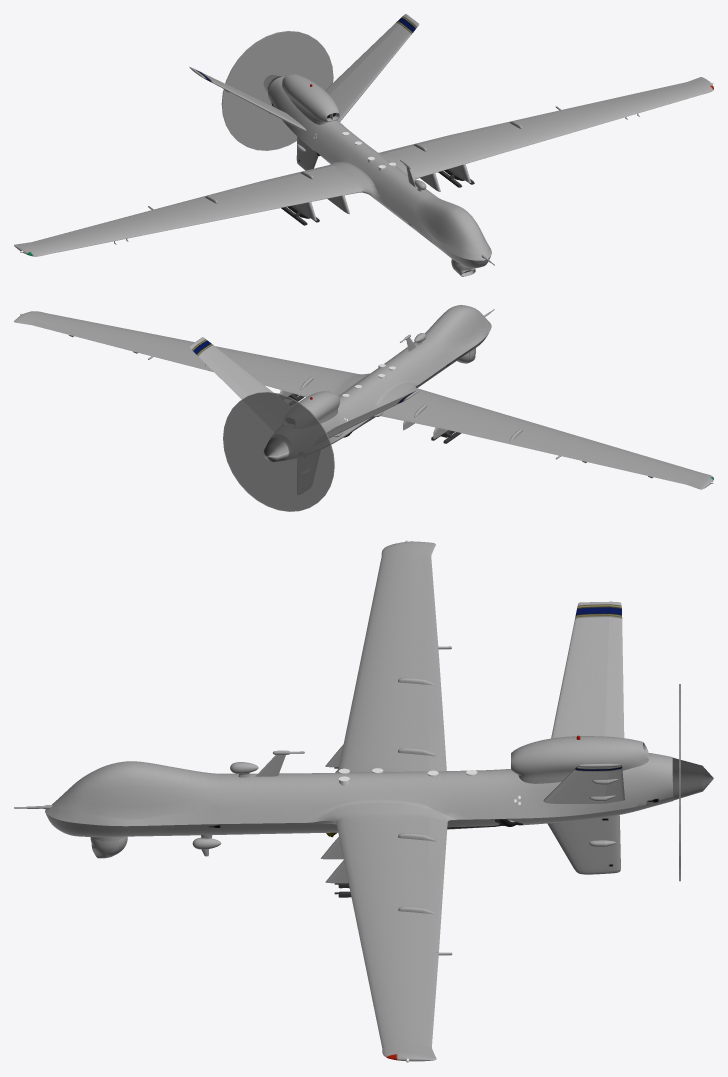
The model's file is MQ9-Reaper.glb.
The picture shows the model from 3 angles, top to bottom: view 1: azimuth 30°, elevation 25°; view 2: azimuth 150°, elevation 25°; view 3: azimuth 270°, elevation 25°; orthographic projection. The views are drawn at different scales.
Parts seen in each view (by area): view 1: Fuselage, Cylinder, HStabilizerL, Engine, HStabilizerR, ElevatorL, Antennas; view 2: Fuselage, Cylinder, HStabilizerL, Engine, FlapR2, AileronR, AileronL, FlapR1, ElevatorL, Propeller, FlapL1, FlapL2 (+2 smaller); view 3: Fuselage, HStabilizerR, Engine, VStabilizer, ElevatorR, HStabilizerL, Antennas, FlapL2, Propeller, FlapR2, AileronL, AileronR (+2 smaller).
Boxes of the visible parts, x1,y1,x2,y2 form: Fuselage: [14, 76, 713, 268]; Cylinder: [221, 31, 333, 150]; HStabilizerL: [329, 16, 419, 121]; Engine: [282, 74, 339, 124]; HStabilizerR: [192, 68, 306, 131]; ElevatorL: [325, 14, 408, 94]; Antennas: [114, 113, 639, 265]; Fuselage: [14, 305, 713, 489]; Cylinder: [223, 392, 334, 511]; HStabilizerL: [193, 337, 273, 395]; Engine: [299, 391, 339, 423]; FlapR2: [450, 424, 563, 455]; AileronR: [555, 451, 689, 484]; AileronL: [31, 321, 157, 359]; FlapR1: [381, 408, 454, 430]; ElevatorL: [189, 344, 249, 399]; Propeller: [263, 437, 289, 462]; FlapL1: [261, 378, 320, 396]; FlapL2: [154, 352, 264, 382]; Fuselage: [45, 541, 673, 1061]; HStabilizerR: [551, 601, 609, 738]; Engine: [511, 736, 648, 783]; VStabilizer: [548, 818, 620, 874]; ElevatorR: [604, 601, 624, 738]; HStabilizerL: [543, 763, 610, 803]; Antennas: [14, 750, 477, 1005]; FlapL2: [424, 868, 444, 952]; Propeller: [672, 757, 713, 800]; FlapR2: [423, 646, 443, 729]; AileronL: [422, 951, 452, 1047]; AileronR: [421, 554, 451, 649].
Size of the model in its own units: 14.25 by 2.45 by 8.1.
Materials: 9 (8 with a texture image).
